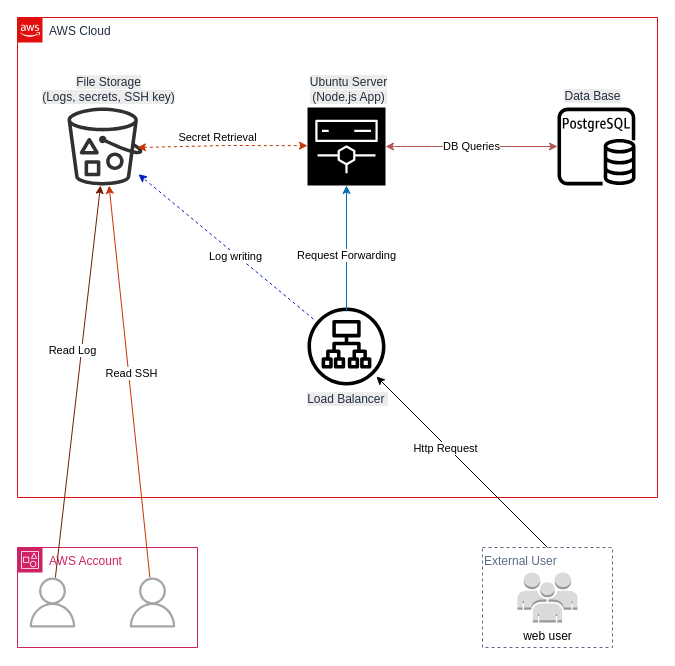
Image size: 675x666. Some labels were removed from this diagram. Here are the shapes that lost their labels. From the top down, the centre of each, then its label:
(52,602): Lara
(152,602): McDuck
